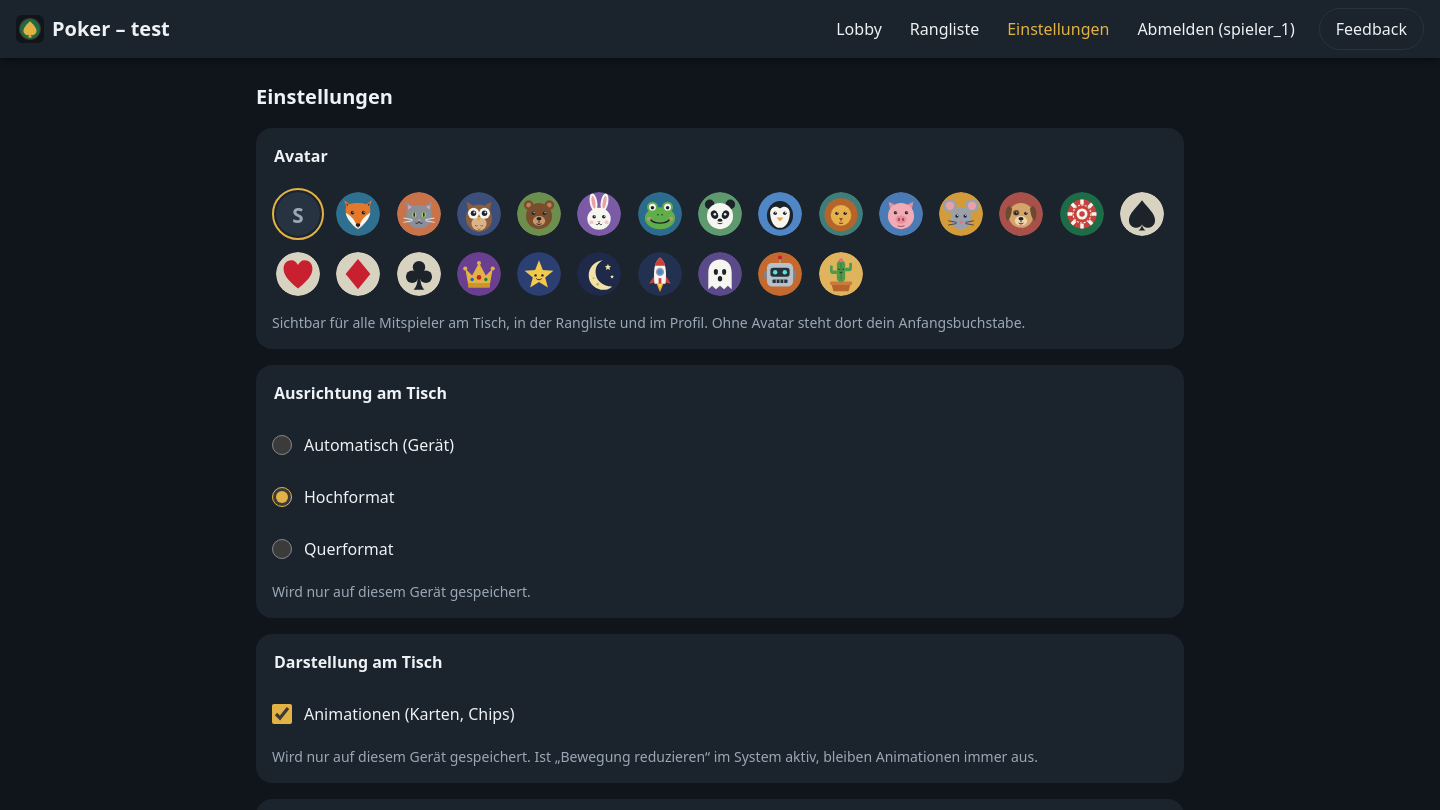
Test case: Feedback in der App-Shell › Knopf „Feedback“ im Feedback-Slot öffnet das Formular
The image size is (1440, 810).
Expected: the heading "Einstellungen" is shown, [256, 83, 393, 110]
Click the button "Feedback".
click(1371, 29)  # box [1319, 8, 1424, 50]
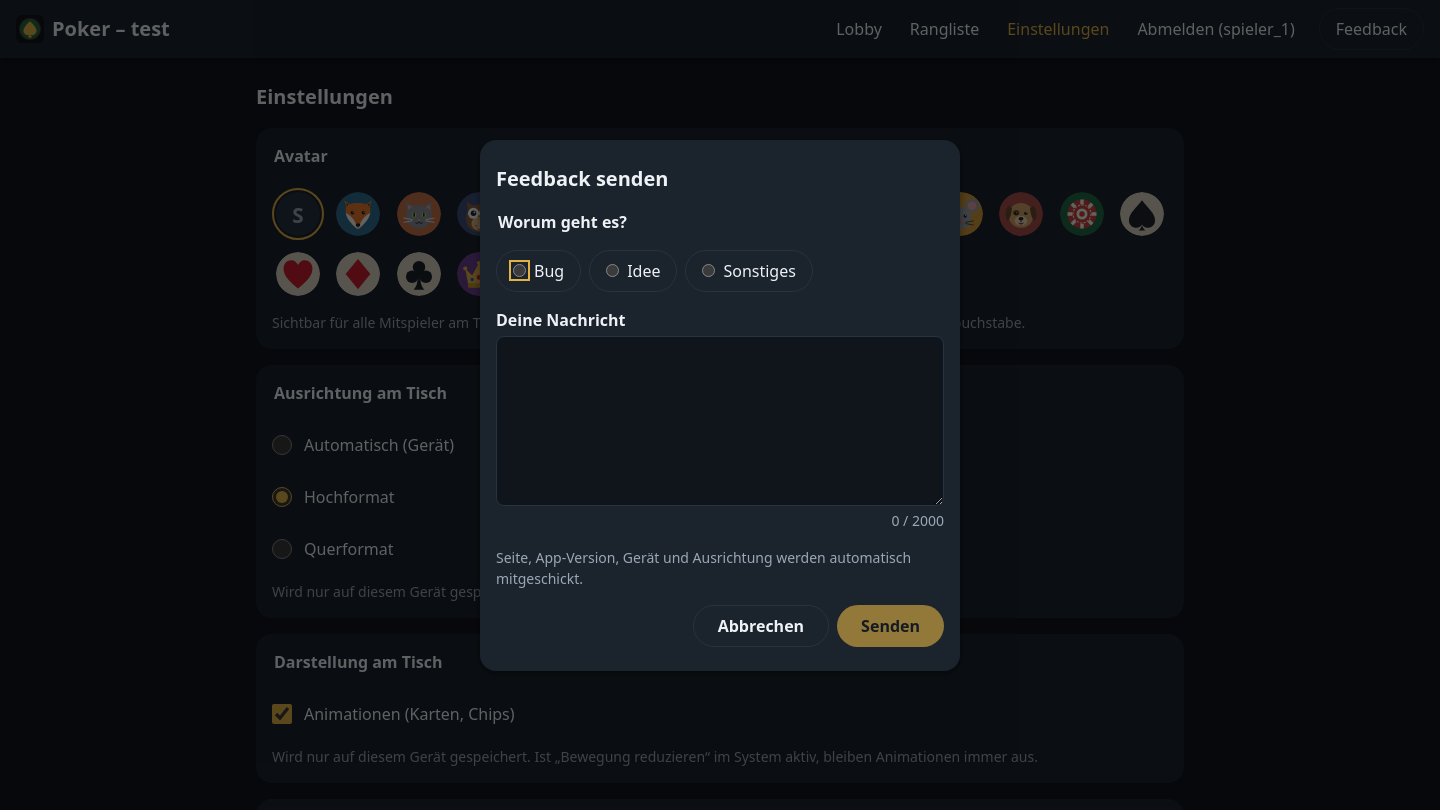
Now the dialog "Feedback senden" is shown, box [480, 140, 960, 670]
